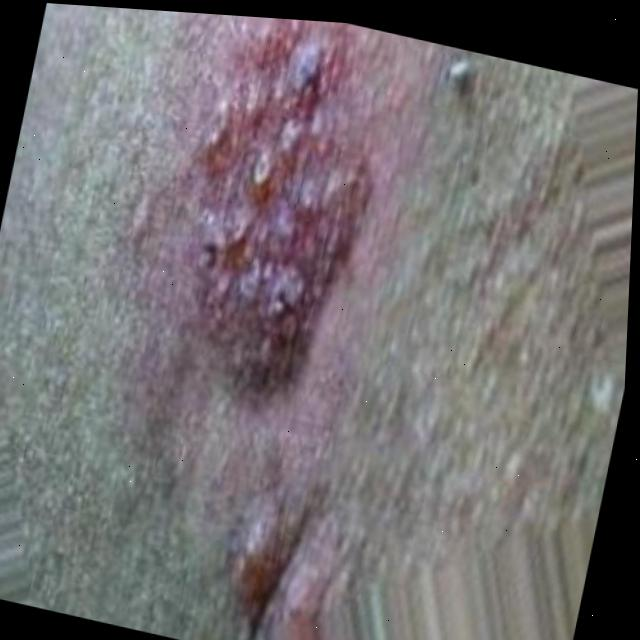Shingles: (150, 11, 381, 405), (225, 490, 295, 614)
